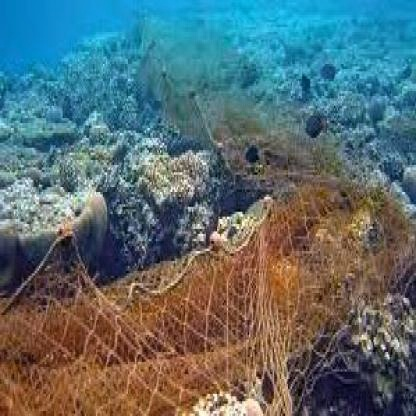net: (1, 165, 398, 399)
